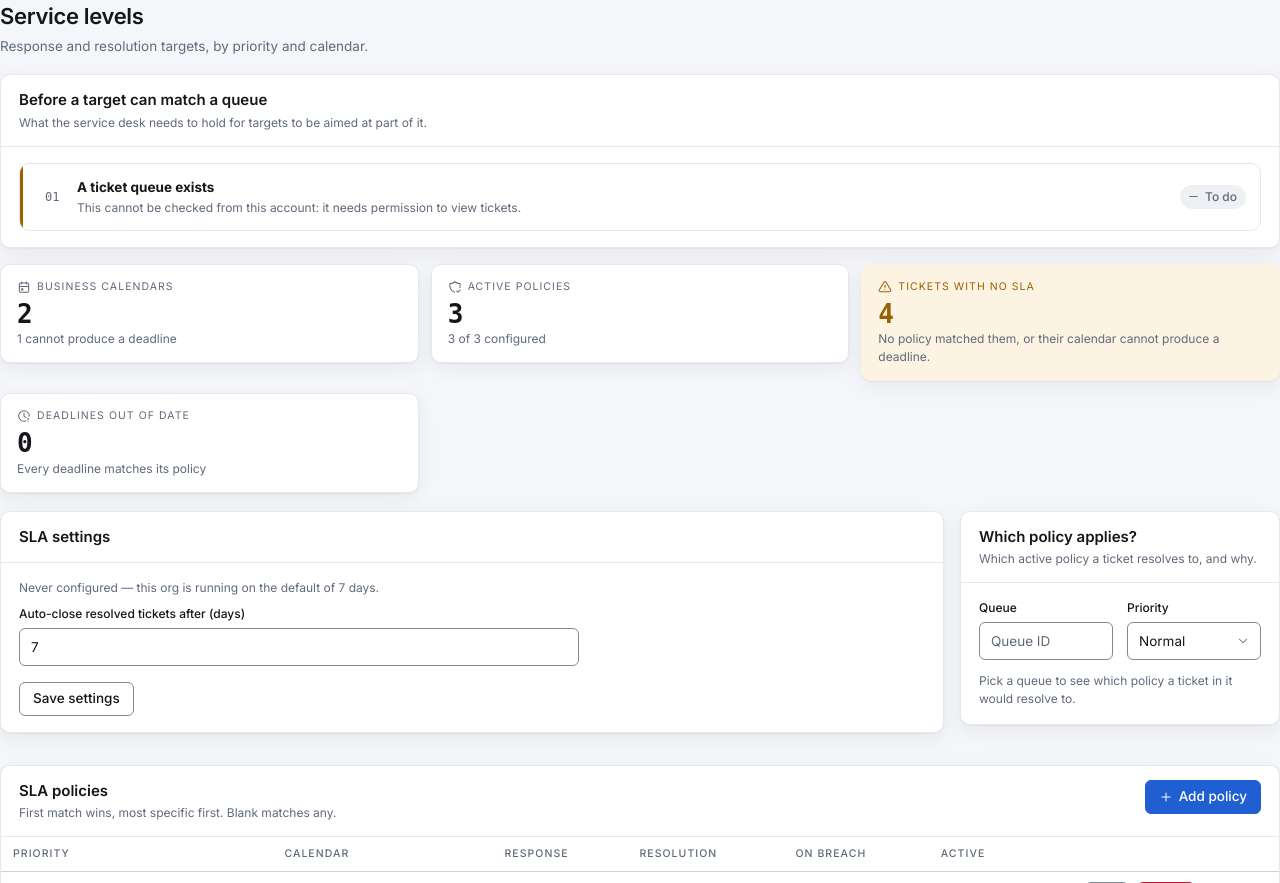
Test: SLA administration › falls back to free-text queue ids when the cross-module queue read 403s
The width and height of the screenshot is (1280, 883).
Click the button "Add policy" at (1203, 797), box x1=1145 y1=780 x2=1261 y2=814
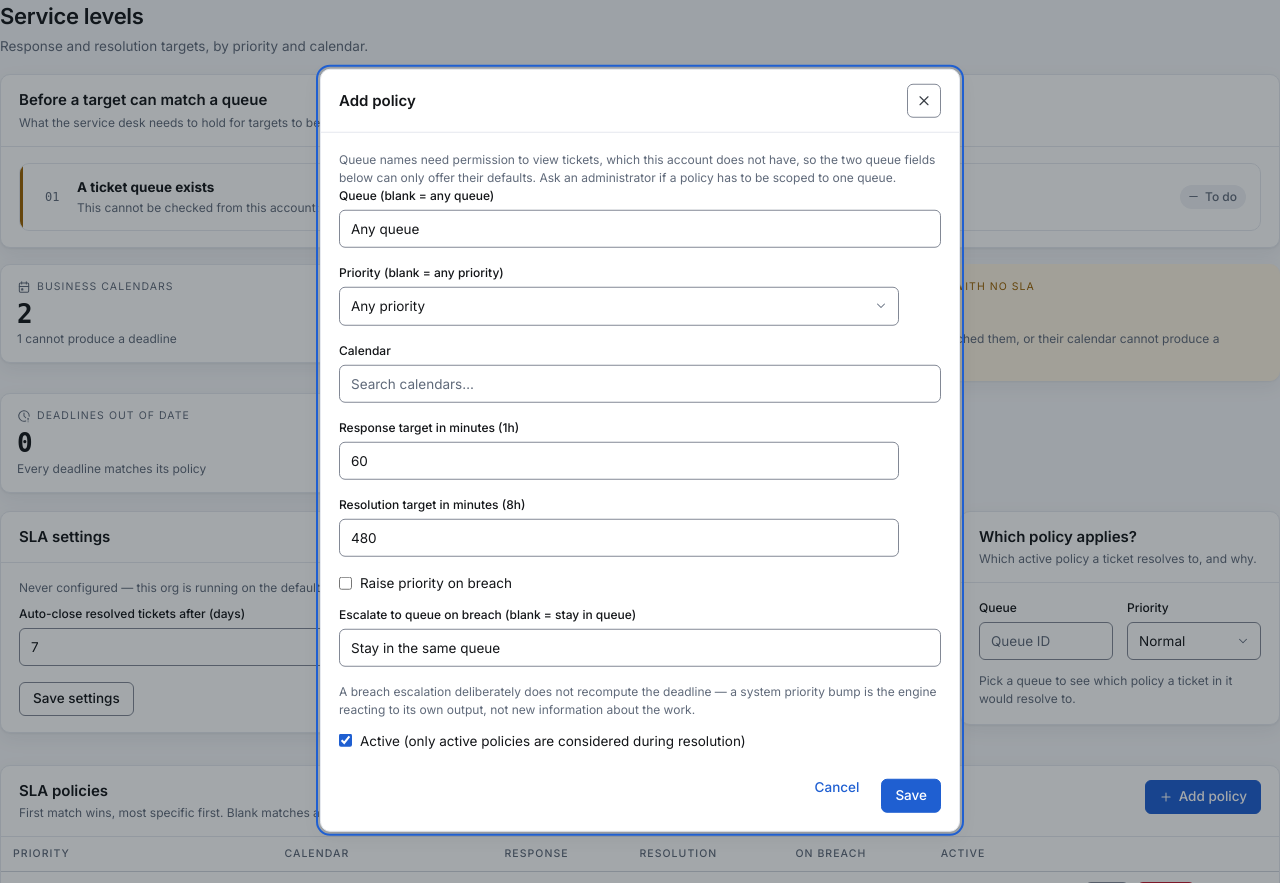
Expected: the number of fields with placeholder "Queue ID" is 1, x1=979 y1=622 x2=1113 y2=660
Expected: the dropdown labelled "Queue (blank = any queue)" is shown, x1=339 y1=210 x2=941 y2=248
Expected: the text "need permission to view tickets" is shown, x1=339 y1=152 x2=935 y2=185
